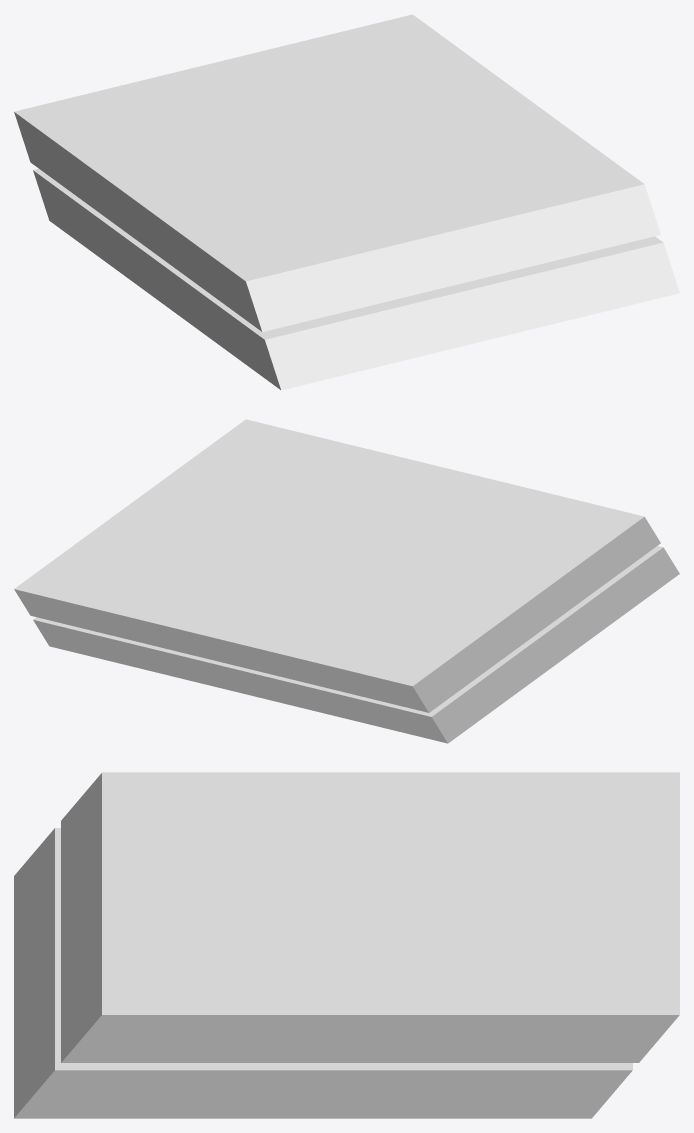
The model's file is Itr_Obj_Console_01.FBX.
The picture shows the model from 3 angles, top to bottom: view 1: azimuth 30°, elevation 25°; view 2: azimuth 150°, elevation 25°; view 3: azimuth 270°, elevation 25°; orthographic projection. The views are drawn at different scales.
Visible parts, largest first — view 1: Itr_Obj_Console_01; view 2: Itr_Obj_Console_01; view 3: Itr_Obj_Console_01.
Boxes of the visible parts, x1=… form: Itr_Obj_Console_01: x1=14, y1=14, x2=679, y2=390; Itr_Obj_Console_01: x1=14, y1=419, x2=679, y2=743; Itr_Obj_Console_01: x1=14, y1=772, x2=679, y2=1118.
Bounding box in the file's own units: 11.52 × 2.3 × 13.37.
